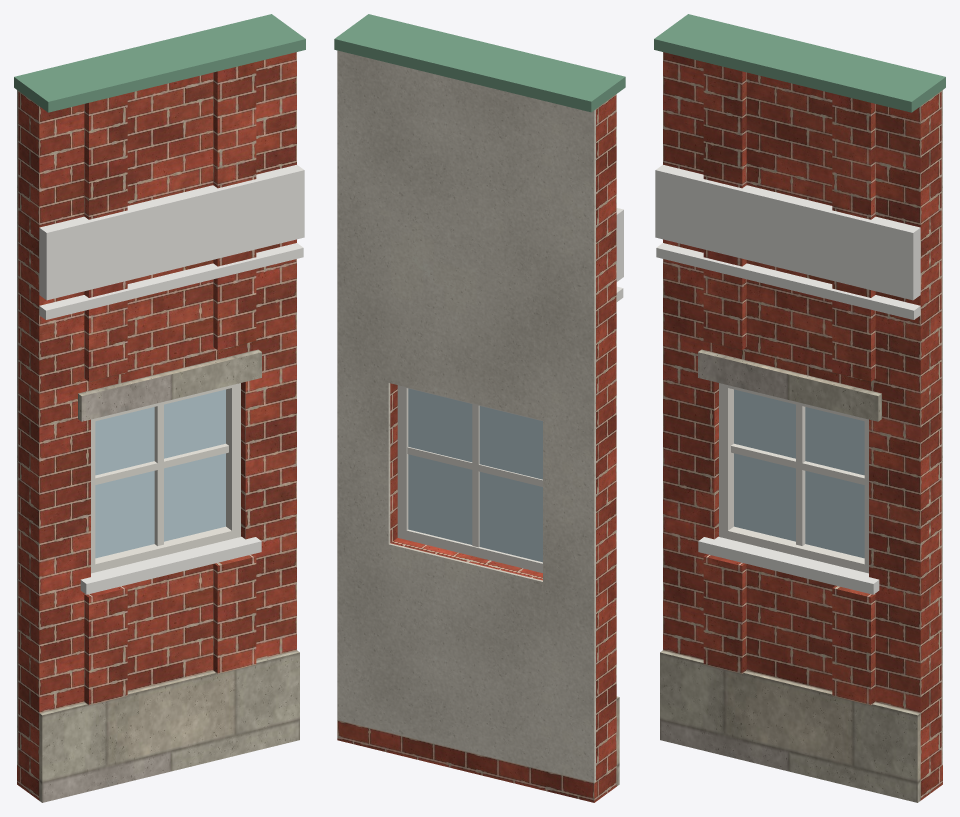
Rendered from wall_brick_window.glb.
The picture shows the model from 3 angles, left to right: view 1: azimuth 30°, elevation 25°; view 2: azimuth 150°, elevation 25°; view 3: azimuth 330°, elevation 25°; orthographic projection.
Parts seen in each view (by area): view 1: wall_brick_window_brick, wall_brick_window_stone, wall_brick_window_trim, wall_brick_window_glass, wall_brick_window_coping, wall_brick_window_frame, wall_brick_window_plaster; view 2: wall_brick_window_plaster, wall_brick_window_brick, wall_brick_window_glass, wall_brick_window_coping, wall_brick_window_frame, wall_brick_window_trim; view 3: wall_brick_window_brick, wall_brick_window_stone, wall_brick_window_trim, wall_brick_window_glass, wall_brick_window_coping, wall_brick_window_frame, wall_brick_window_plaster.
Part boxes in pixels (x1,y1,x2,y2): wall_brick_window_brick: (17, 52, 296, 800); wall_brick_window_stone: (39, 349, 299, 802); wall_brick_window_trim: (39, 165, 304, 594); wall_brick_window_glass: (95, 389, 225, 558); wall_brick_window_coping: (14, 14, 305, 112); wall_brick_window_frame: (91, 383, 240, 573); wall_brick_window_plaster: (17, 90, 18, 764); wall_brick_window_plaster: (337, 50, 595, 782); wall_brick_window_brick: (337, 94, 616, 802); wall_brick_window_glass: (408, 388, 542, 562); wall_brick_window_coping: (334, 14, 625, 112); wall_brick_window_frame: (397, 385, 542, 572); wall_brick_window_trim: (616, 208, 623, 301); wall_brick_window_brick: (663, 52, 942, 800); wall_brick_window_stone: (660, 349, 920, 802); wall_brick_window_trim: (655, 165, 920, 594); wall_brick_window_glass: (734, 389, 864, 558); wall_brick_window_coping: (654, 14, 945, 112); wall_brick_window_frame: (719, 383, 868, 573); wall_brick_window_plaster: (941, 90, 942, 764).
Size of the model in its own units: 2 by 5.23 by 0.46.
7 materials, 3 textured.
